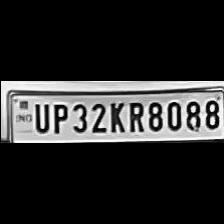0: (164, 97, 182, 131)
2: (86, 99, 106, 133)
3: (69, 100, 87, 134)
8: (144, 97, 164, 132), (183, 96, 201, 132), (202, 96, 220, 130)
K: (106, 99, 126, 134)
P: (49, 100, 69, 134)
R: (124, 99, 144, 134)
U: (29, 100, 49, 134)
